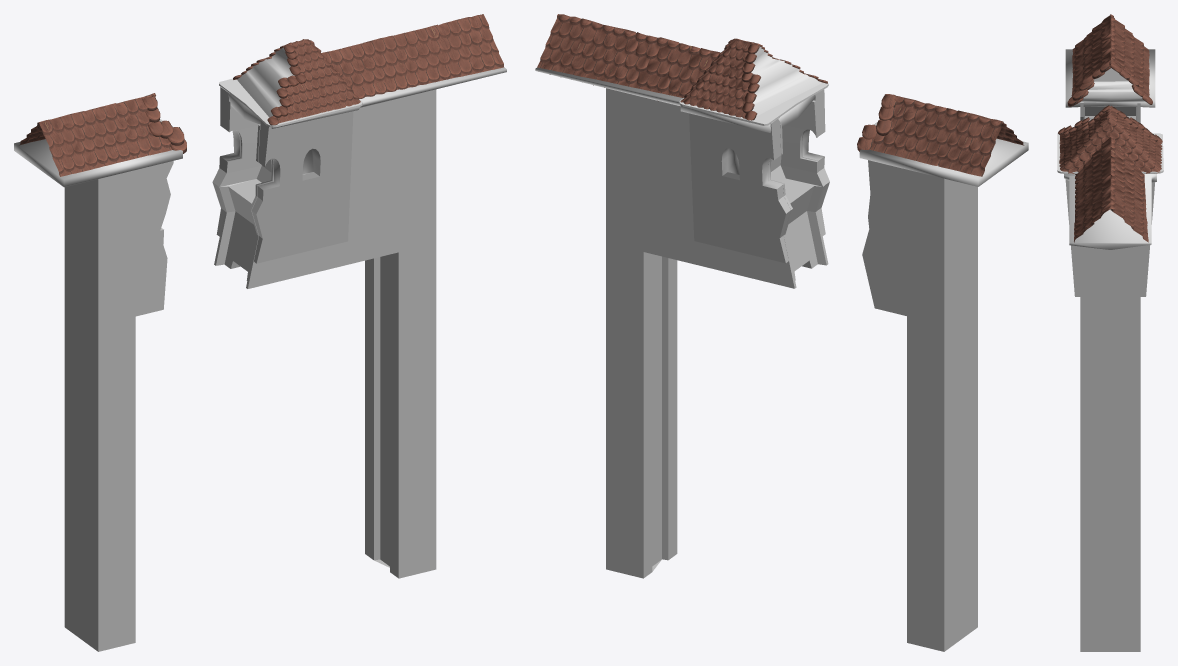
File: bricks_bridge_lod2.fbx
3 renders of one model, left to right at view 1: azimuth 30°, elevation 25°; view 2: azimuth 150°, elevation 25°; view 3: azimuth 270°, elevation 25°, orthographic. The views are drawn at different scales.
Visible parts, largest first — view 1: Lod2_middle_bricks_bridge; view 2: Lod2_middle_bricks_bridge; view 3: Lod2_middle_bricks_bridge, Plane.130.
Part boxes in pixels (x1,y1,x2,y2): Lod2_middle_bricks_bridge: (14,14,506,651); Lod2_middle_bricks_bridge: (535,14,1028,651); Lod2_middle_bricks_bridge: (1057,14,1163,651); Plane.130: (1081,68,1145,102).
Size of the model in its own units: 1143 by 1341 by 265.
